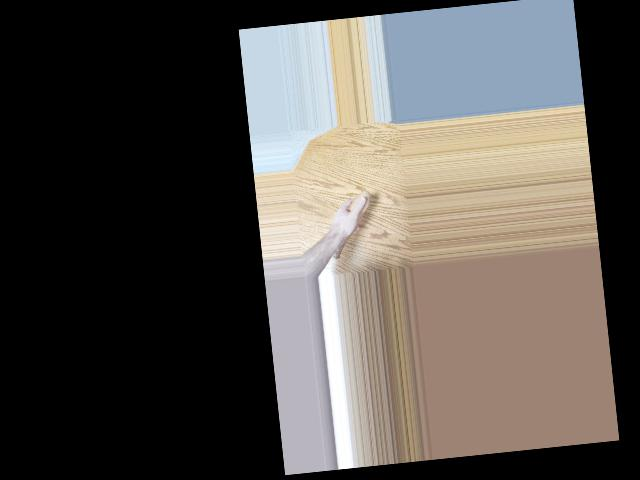sweet_potato: (324, 189, 376, 261)
